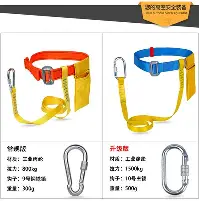safety belt: (5, 42, 97, 130)
safety belt2: (110, 44, 193, 131), (6, 48, 92, 129)
